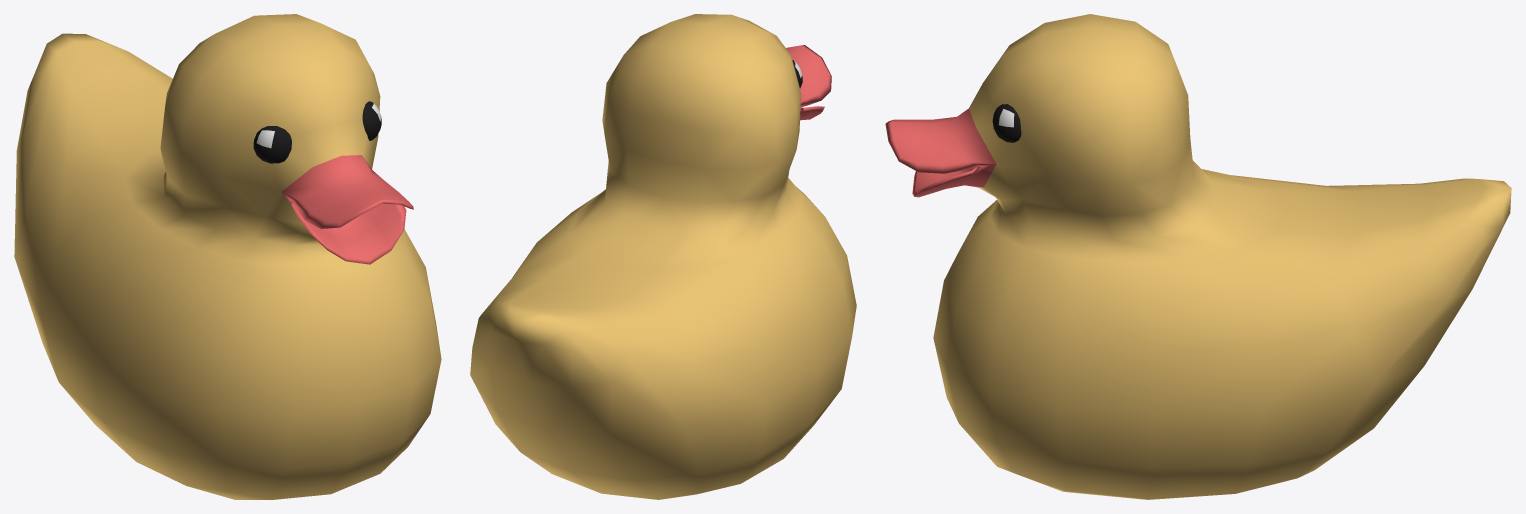
The picture shows the model from 3 angles, left to right: view 1: azimuth 30°, elevation 25°; view 2: azimuth 150°, elevation 25°; view 3: azimuth 270°, elevation 25°; orthographic projection. The views are drawn at different scales.
Visible parts, largest first — view 1: rubber_ducky; view 2: rubber_ducky; view 3: rubber_ducky.
Part boxes in pixels (x1=…): rubber_ducky: x1=14, y1=14, x2=441, y2=499; rubber_ducky: x1=470, y1=14, x2=856, y2=499; rubber_ducky: x1=885, y1=14, x2=1511, y2=499.
Bounding box in the file's own units: 0.2242 × 0.3206 × 0.4034.
